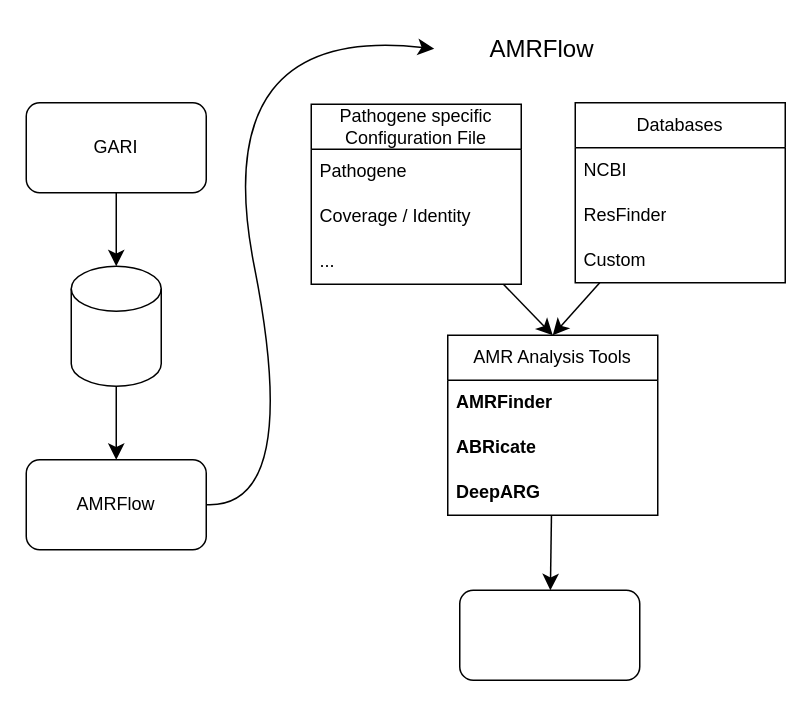
Image size: 812x707. Some labels were removed from this diagram. Here are the shapes that lost their labels. From the top down, the centre of each, then its label:
At point (115, 325): "Assembly Data".
At point (549, 634): "Standardize Reports hAMRonization".
